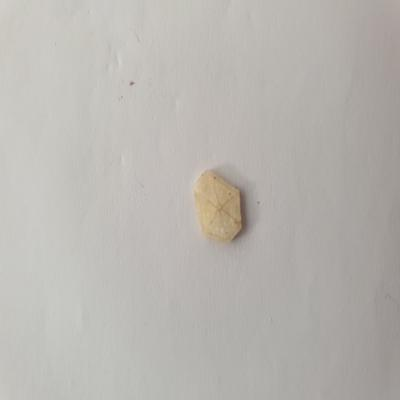plastic: (188, 166, 249, 247)
